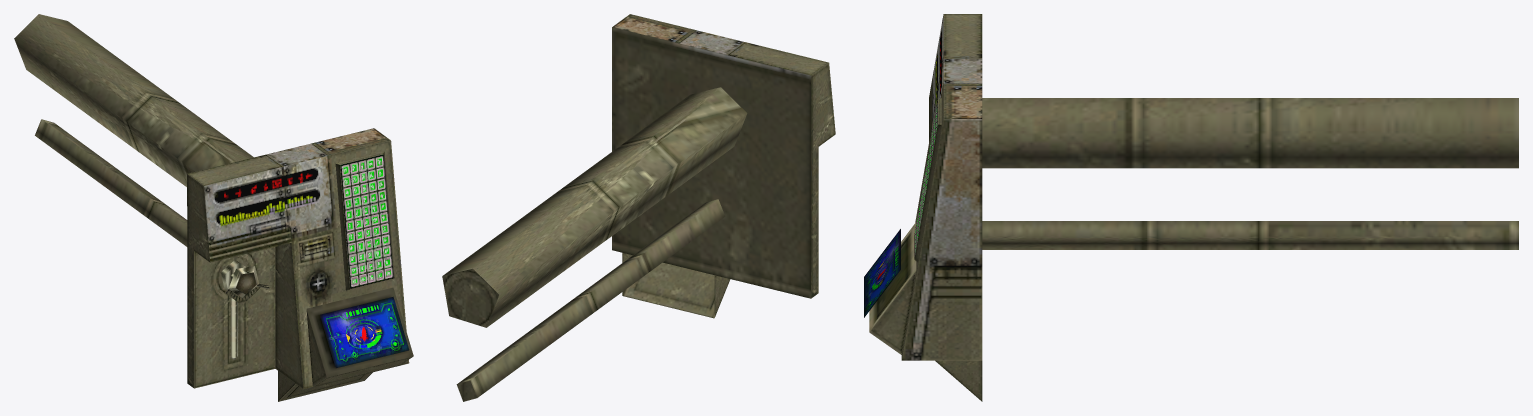
Rendered from frn_all_data_terminal_wall_s2_l1.fbx.
3 views of the same model, side by side, from view 1: azimuth 30°, elevation 25°; view 2: azimuth 150°, elevation 25°; view 3: azimuth 270°, elevation 25° (orthographic). The views are drawn at different scales.
Visible parts, largest first — view 1: mesh_node; view 2: mesh_node; view 3: mesh_node.
Part boxes in pixels (x1=…): mesh_node: x1=14, y1=14, x2=413, y2=401; mesh_node: x1=442, y1=14, x2=835, y2=401; mesh_node: x1=864, y1=14, x2=1518, y2=401.
Size of the model in its own units: 0.4636 by 0.5927 by 1.22.
Materials: 2 (2 with a texture image).
